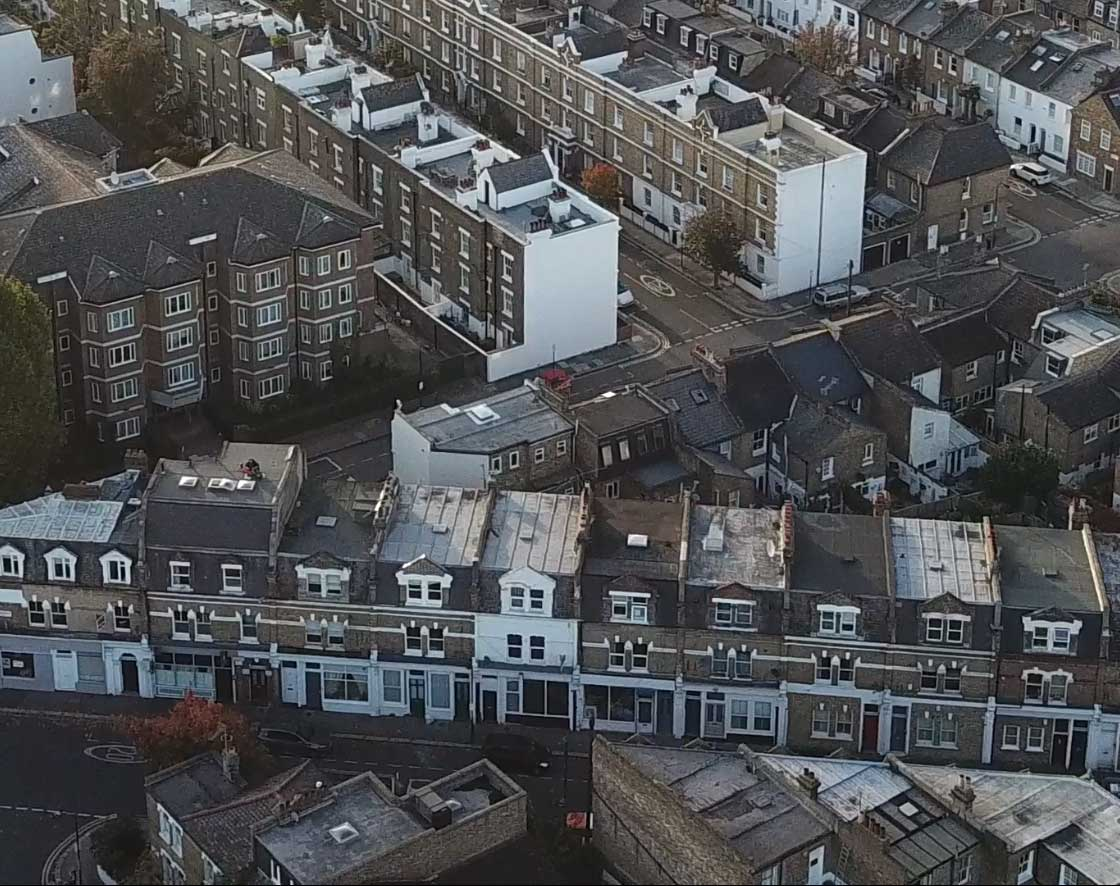car: (806, 272, 881, 305)
